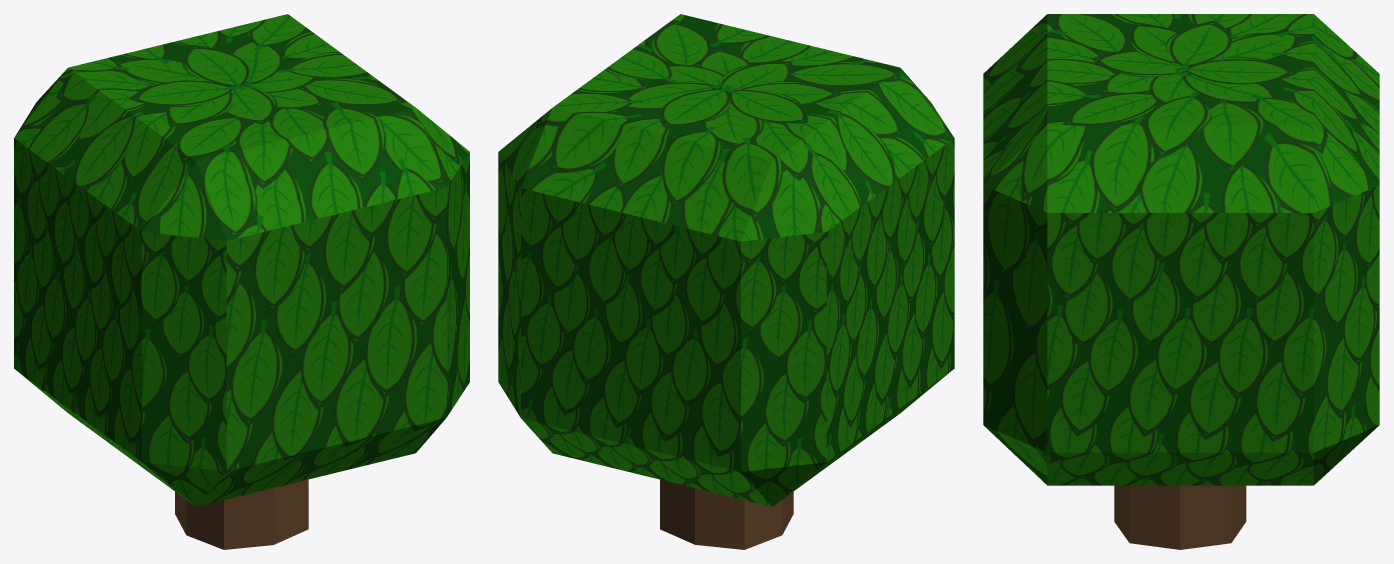
File: tree01-3.fbx
3 renders of one model, left to right at view 1: azimuth 30°, elevation 25°; view 2: azimuth 150°, elevation 25°; view 3: azimuth 270°, elevation 25°, orthographic. The views are drawn at different scales.
Parts seen in each view (by area): view 1: Cube.001, Cube; view 2: Cube.001, Cube; view 3: Cube.001, Cube.
Boxes of the visible parts, box(x1,y1,x2,y2) form: Cube.001: box(14, 14, 469, 506); Cube: box(175, 479, 308, 549); Cube.001: box(498, 14, 954, 506); Cube: box(660, 479, 793, 549); Cube.001: box(983, 14, 1379, 485); Cube: box(1114, 485, 1246, 549).
Size of the model in its own units: 1566 by 1980 by 1572.
Materials: 1 (1 with a texture image).
